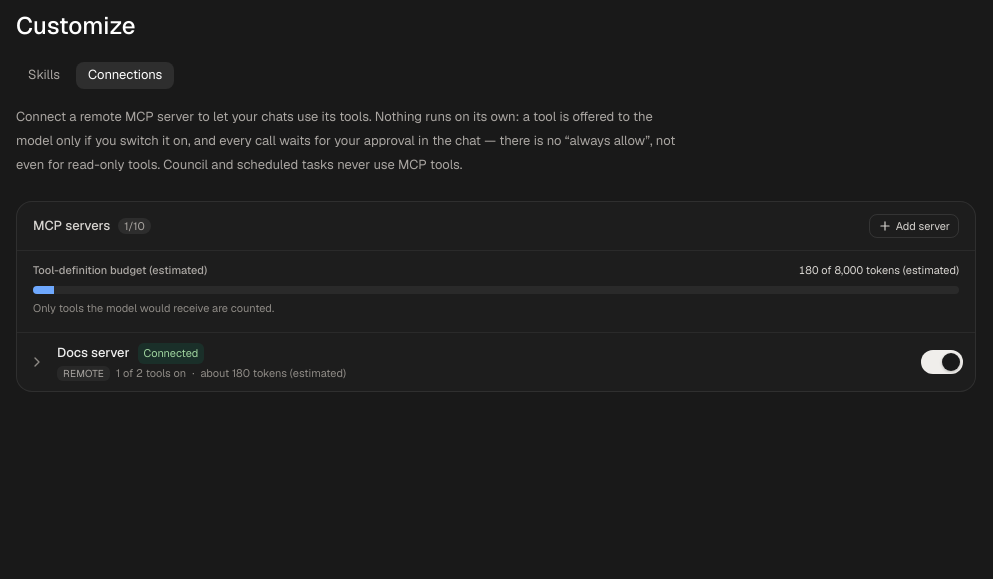
Scenario: the MCP servers block under reduced motion › keeps every state change and announcement: switch, meter, undo bar
Click the button with aria-label "Docs server, Connected" at (93, 353), box x1=29 y1=343 x2=913 y2=381
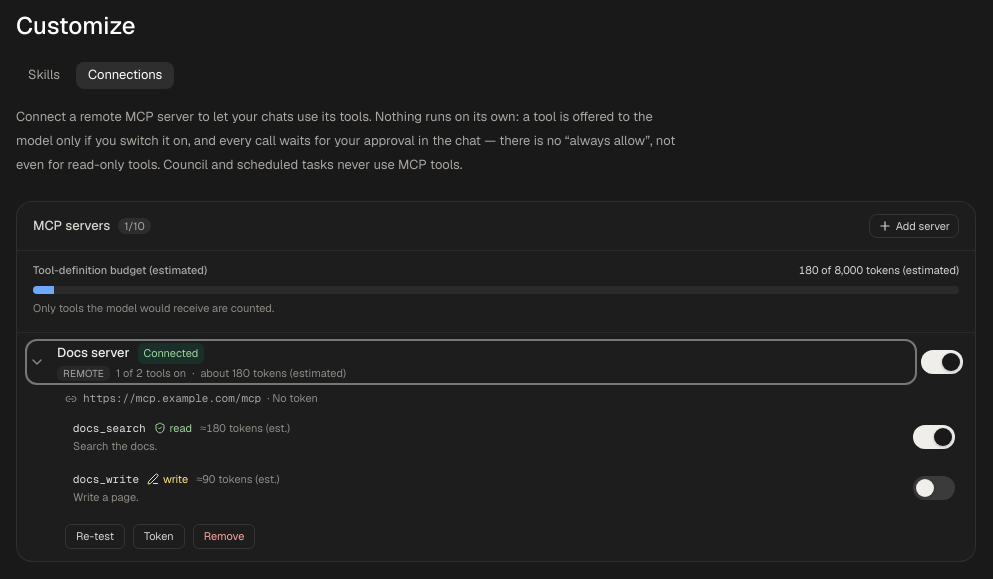
Click the switch named "Enable docs_write on Docs server" at (934, 488), box x1=913 y1=472 x2=955 y2=504
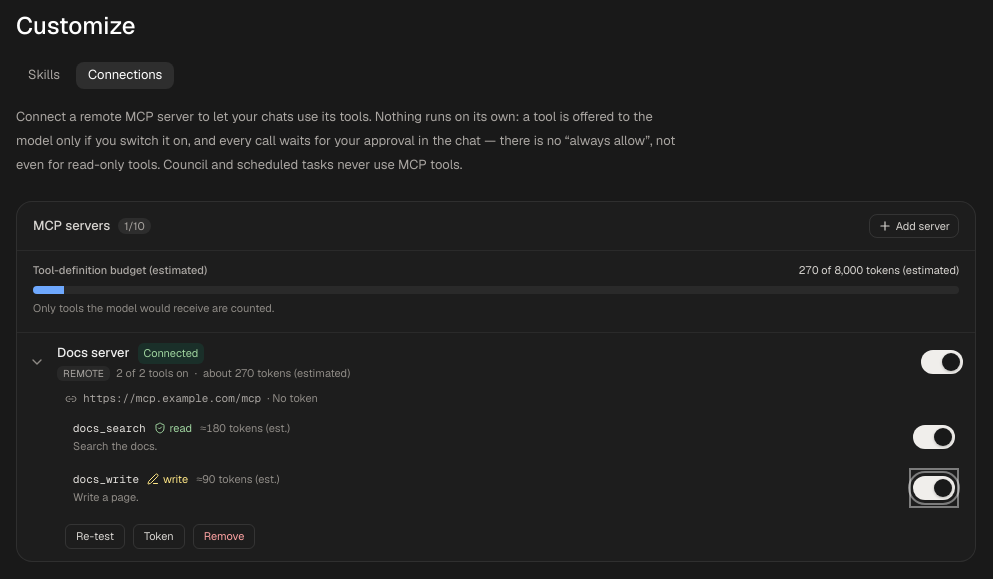
Result: the element named "Estimated tool-definition budget" has attribute aria-valuenow="270" at x1=33 y1=286 x2=959 y2=294
Click the button with aria-label "Remove Docs server" at (224, 536), box x1=193 y1=524 x2=255 y2=549
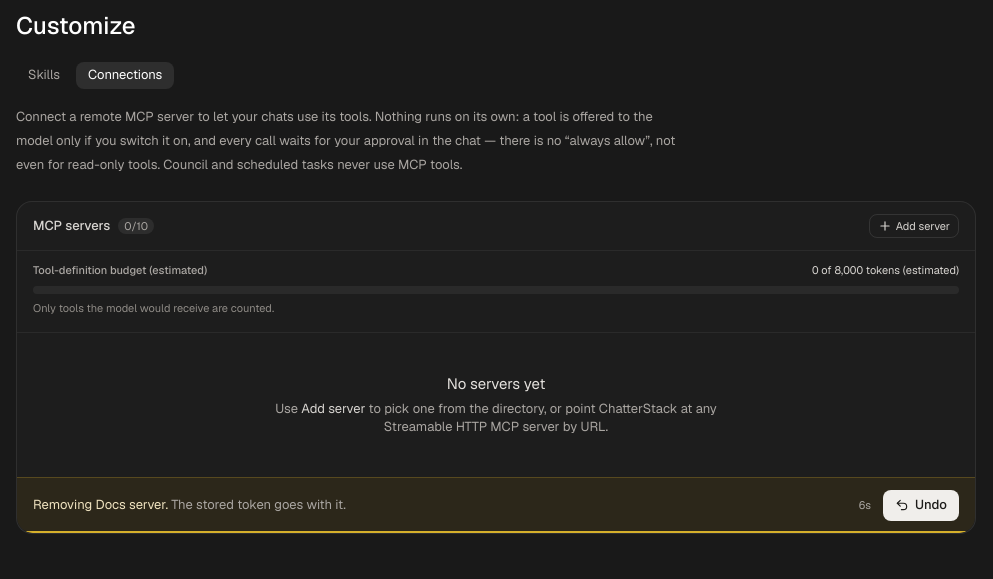
Click the button "Undo" at (921, 505), box x1=883 y1=490 x2=959 y2=521
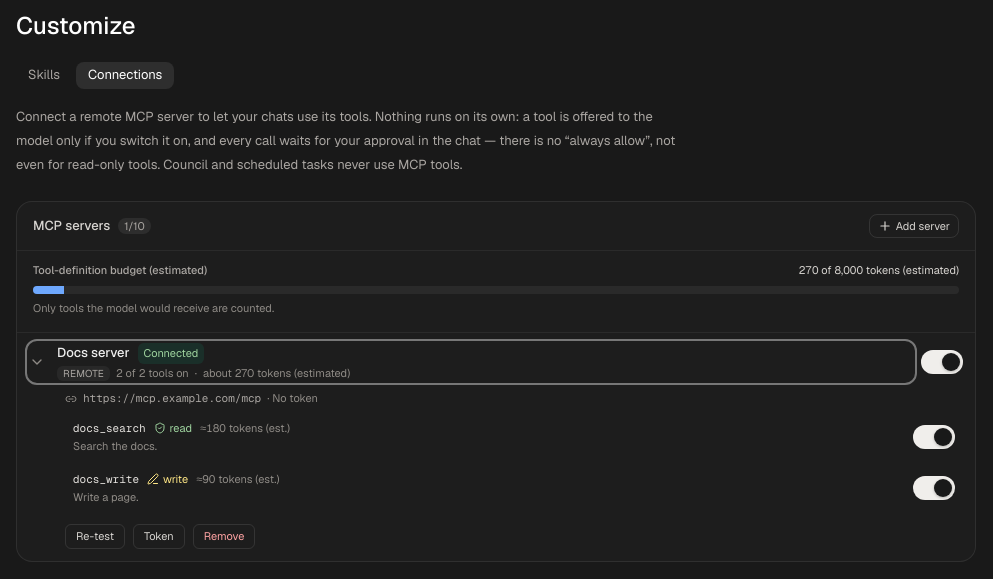
Expected: the button with aria-label "Docs server, Connected" is shown, x1=29 y1=343 x2=913 y2=381
Result: the element "Removing" is gone
